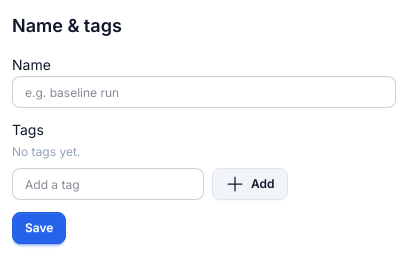
JobMetadataEditor › adds a tag
Type "urgent" into the field labelled "Add a tag" at (108, 184), box 12,168 -> 204,200
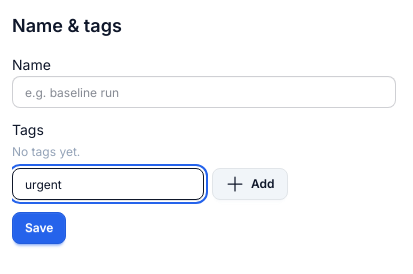
Click the button "Add" at (250, 184), box 212,168 -> 288,200
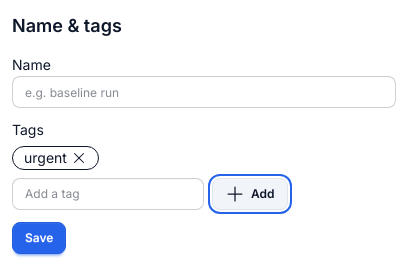
Expected: the text "urgent" is shown, 12,146 -> 99,170
